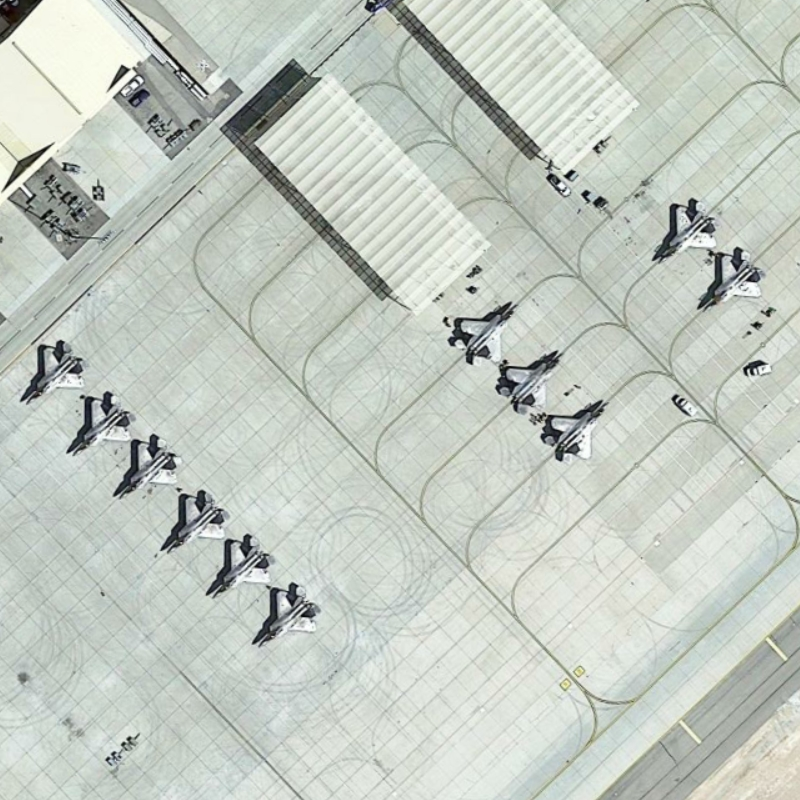A15: (443, 294, 526, 372), (249, 576, 329, 655), (152, 479, 232, 554), (202, 529, 282, 603), (650, 191, 721, 271), (15, 336, 93, 407), (63, 391, 141, 459), (696, 246, 773, 313), (493, 347, 566, 417), (110, 432, 185, 500), (538, 394, 610, 464)
